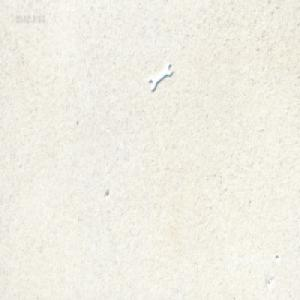Wrench: (148, 62, 172, 92)
